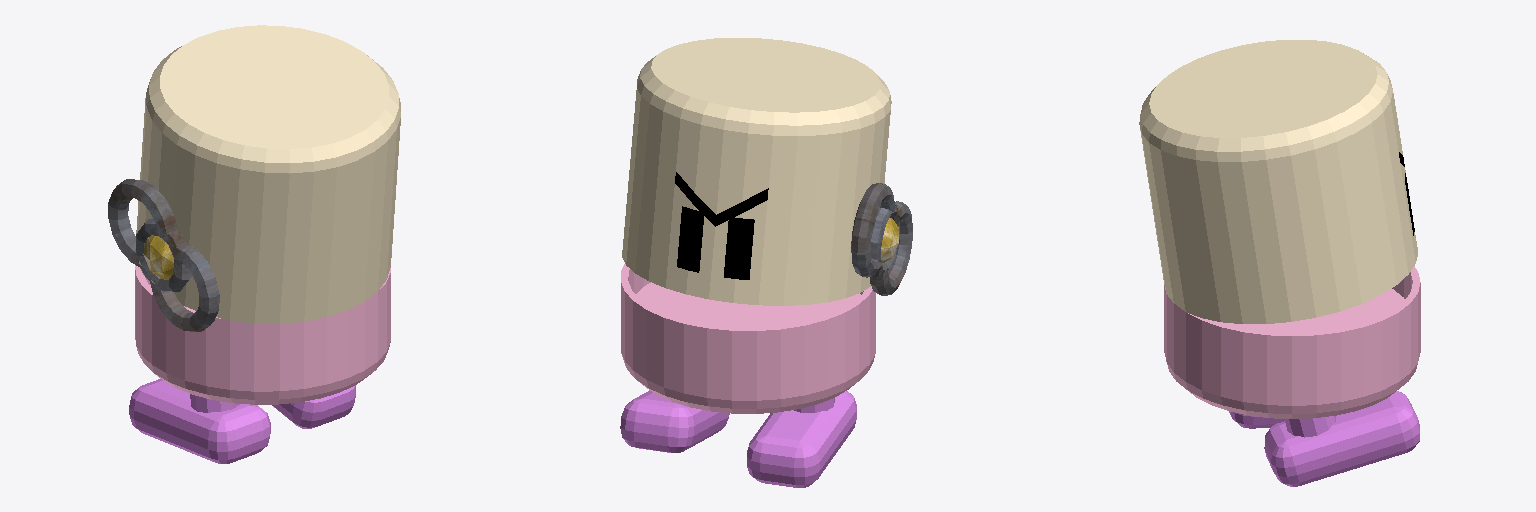
3 renders of one model, left to right at view 1: azimuth 30°, elevation 25°; view 2: azimuth 150°, elevation 25°; view 3: azimuth 270°, elevation 25°, orthographic.
Visible parts, largest first — view 1: Head, Jaw, WindupKey, LeftLeg, RightLeg; view 2: Head, Jaw, LeftLeg, WindupKey, RightLeg; view 3: Head, Jaw, RightLeg.
Boxes of the visible parts, x1=… form: Head: x1=136, y1=25, x2=400, y2=323; Jaw: x1=135, y1=265, x2=390, y2=404; WindupKey: x1=108, y1=179, x2=219, y2=331; LeftLeg: x1=129, y1=379, x2=270, y2=463; RightLeg: x1=272, y1=385, x2=355, y2=428; Head: x1=622, y1=38, x2=891, y2=305; Jaw: x1=621, y1=264, x2=875, y2=413; LeftLeg: x1=747, y1=391, x2=856, y2=487; WindupKey: x1=851, y1=183, x2=912, y2=295; RightLeg: x1=620, y1=390, x2=729, y2=452; Head: x1=1139, y1=40, x2=1417, y2=323; Jaw: x1=1164, y1=266, x2=1420, y2=418; RightLeg: x1=1264, y1=391, x2=1419, y2=486.
Bounding box in the file's own units: 112 × 161 × 110.
6 materials, 2 textured.